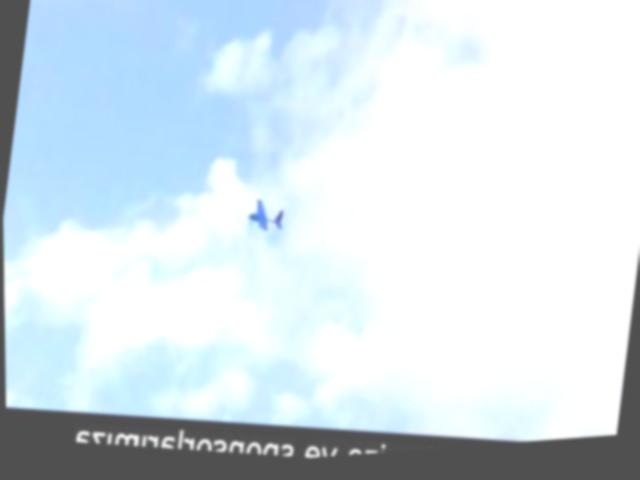uav: (237, 190, 295, 250)
